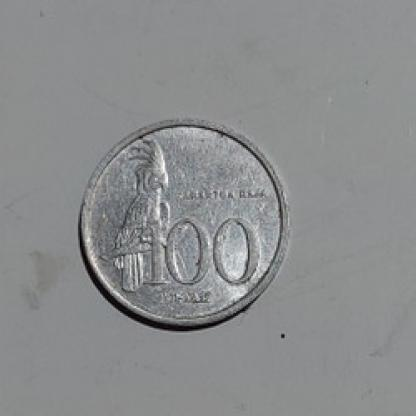coin_100_e1999: (81, 116, 291, 330)
